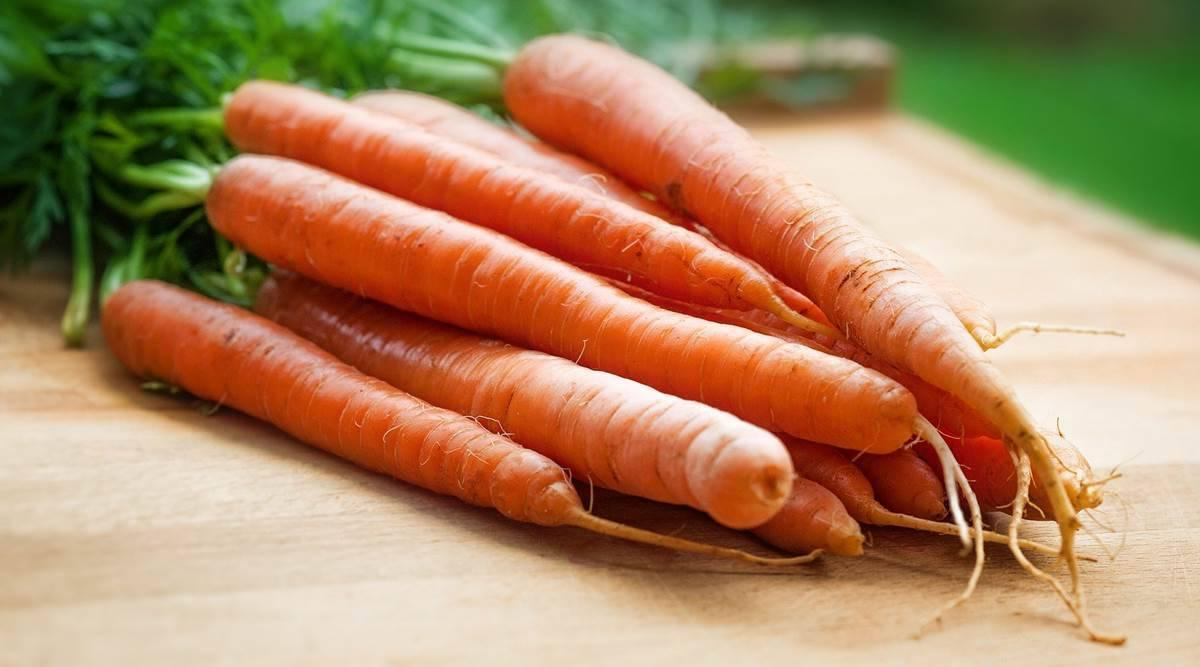carrot: (101, 28, 1088, 573), (190, 74, 897, 490)
